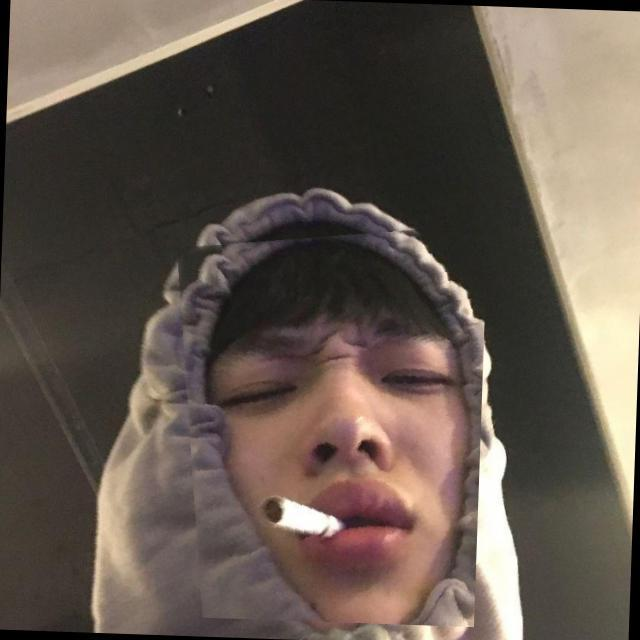cigarette: (232, 462, 320, 530)
